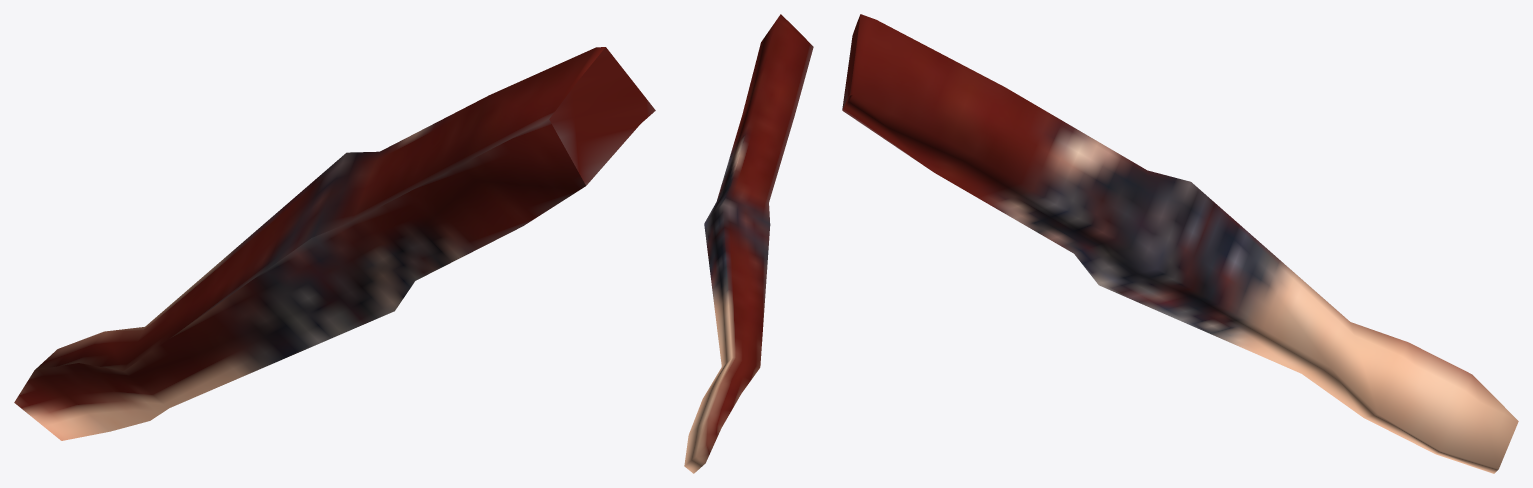
File: Arm2.fbx
3 views of the same model, side by side, from view 1: azimuth 30°, elevation 25°; view 2: azimuth 150°, elevation 25°; view 3: azimuth 270°, elevation 25° (orthographic). The views are drawn at different scales.
Visible parts, largest first — view 1: Cube.064; view 2: Cube.064; view 3: Cube.064.
Part boxes in pixels (box(x1,y1,x2,y2)): Cube.064: box(14, 47, 655, 440); Cube.064: box(684, 14, 813, 473); Cube.064: box(842, 14, 1518, 473).
Size of the model in its own units: 127 by 275 by 313.
